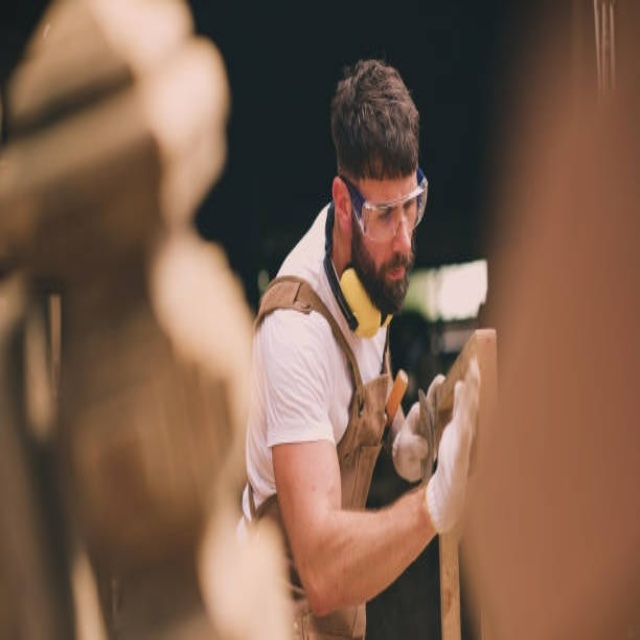Gafas: (340, 168, 428, 239)
Guantes: (424, 353, 484, 536), (390, 376, 441, 482)
Sin_mascara: (379, 253, 413, 294)
